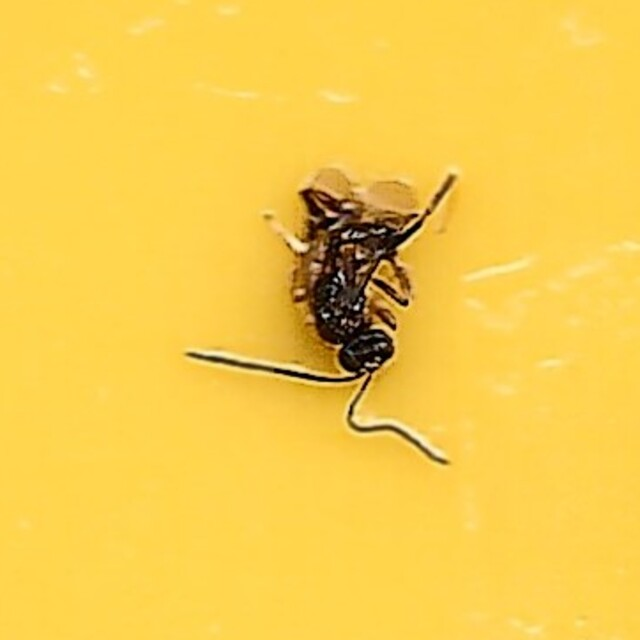Hymenoptera: (177, 170, 463, 470)
